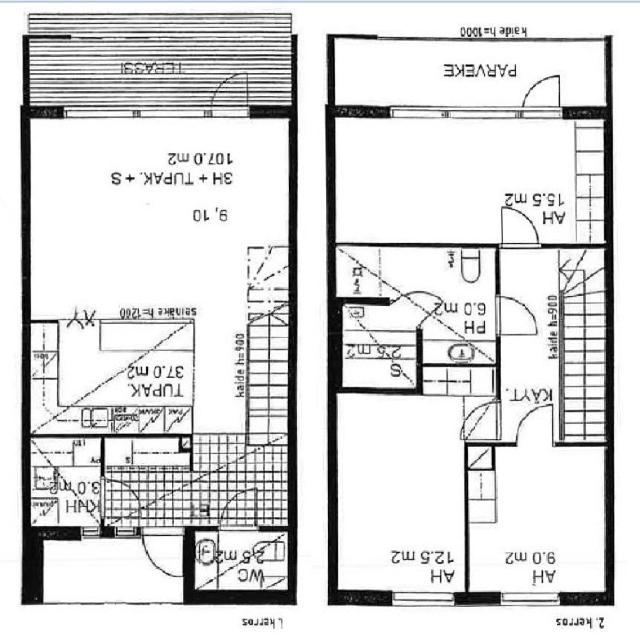door: (486, 290, 543, 342), (492, 202, 548, 253), (207, 66, 254, 123), (140, 523, 186, 581), (518, 71, 568, 120), (512, 399, 556, 447), (57, 306, 100, 338), (216, 502, 260, 532)
window: (384, 102, 523, 123), (493, 590, 568, 609), (387, 590, 459, 608), (217, 510, 261, 533), (74, 523, 104, 545), (109, 524, 142, 542)
zone: (323, 117, 612, 244), (29, 116, 297, 250), (340, 379, 475, 598), (467, 444, 610, 598), (26, 326, 203, 432), (361, 244, 499, 358), (100, 469, 286, 527), (336, 300, 421, 392), (27, 436, 104, 530), (192, 527, 292, 595), (108, 435, 192, 478)
